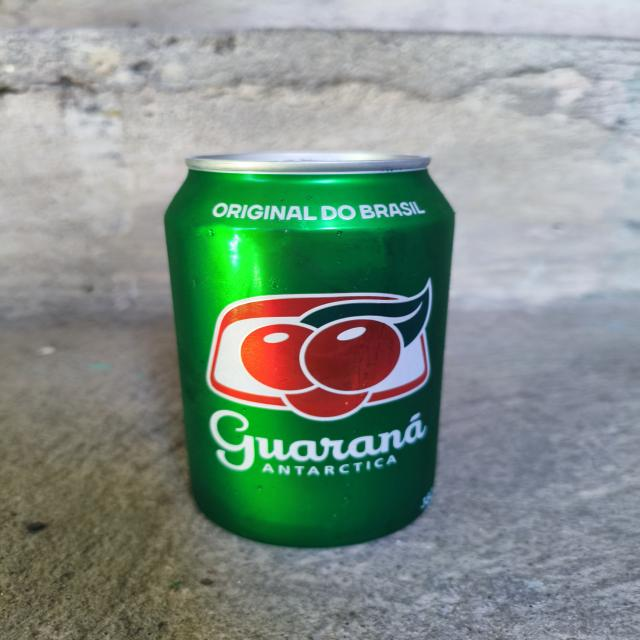Guarana: (142, 132, 458, 550)
